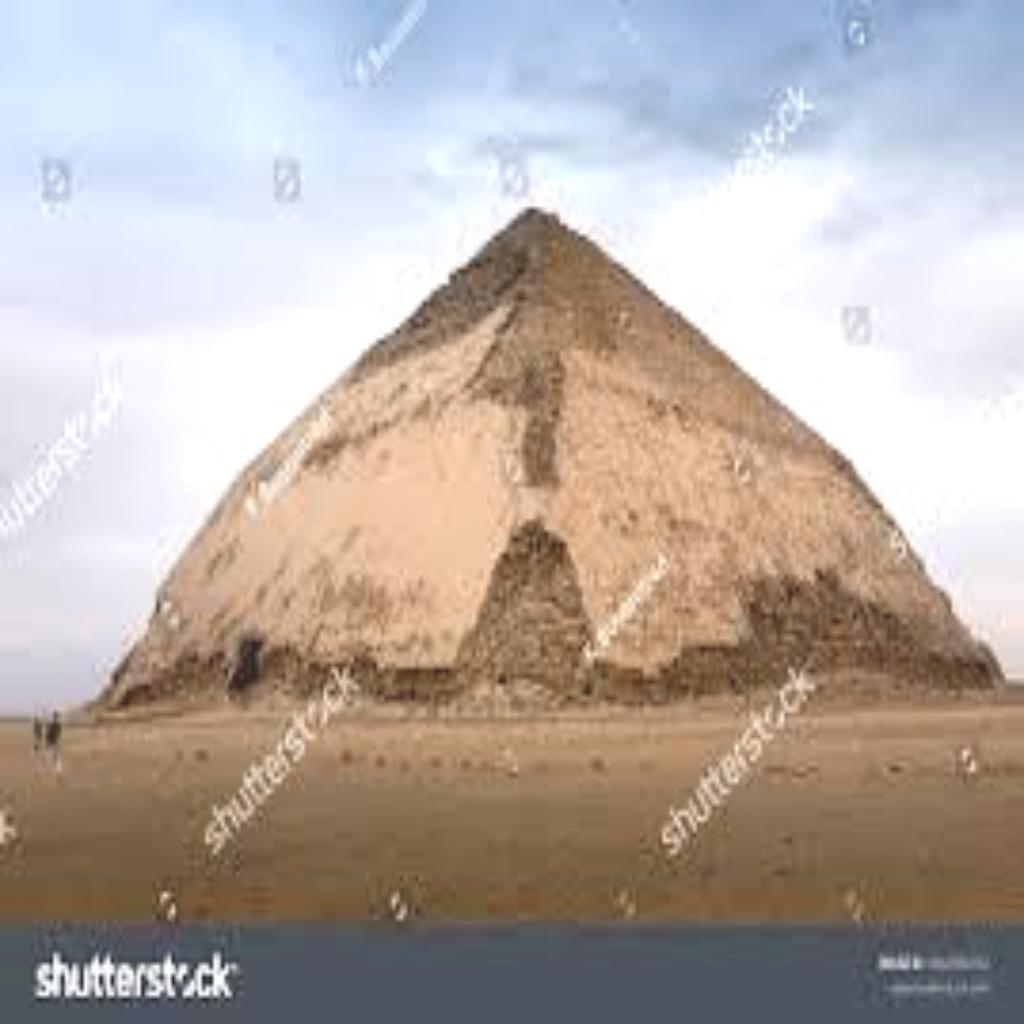Bent Pyramid of King Sneferu: (80, 197, 1001, 712)
